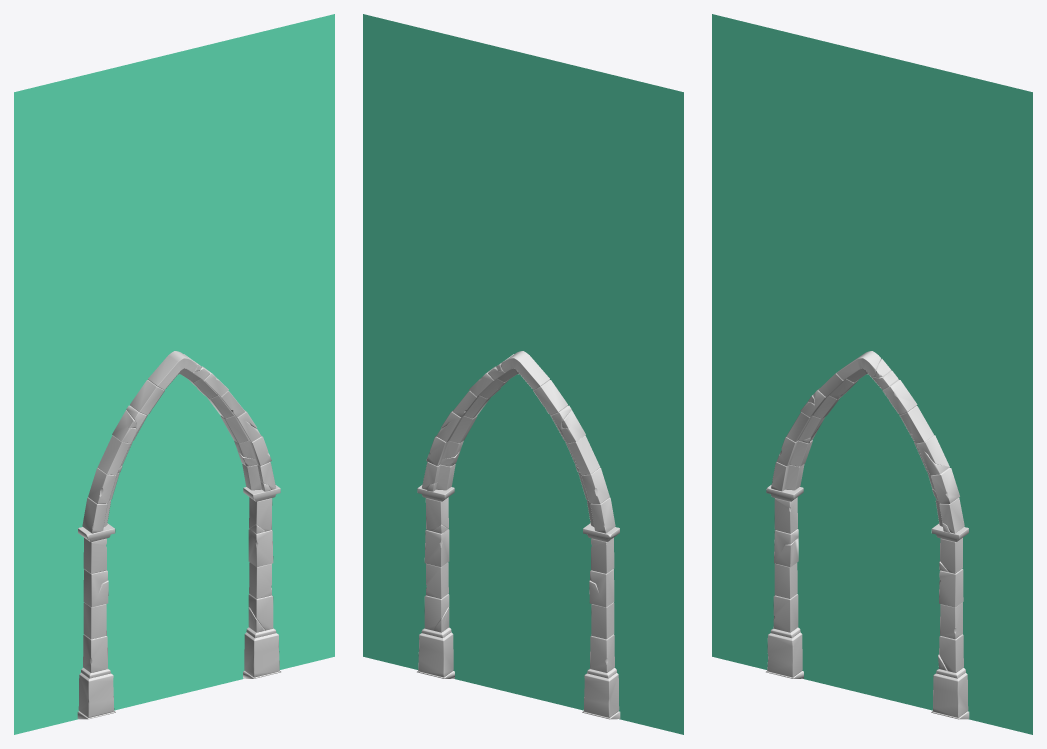
The picture shows the model from 3 angles, left to right: view 1: azimuth 30°, elevation 25°; view 2: azimuth 150°, elevation 25°; view 3: azimuth 330°, elevation 25°; orthographic projection.
Parts seen in each view (by area): view 1: SM_VFX_SpectralDoor_LOD0; view 2: SM_VFX_SpectralDoor_LOD0; view 3: SM_VFX_SpectralDoor_LOD0.
Part boxes in pixels (x1,y1,x2,y2): SM_VFX_SpectralDoor_LOD0: (14,14,334,734); SM_VFX_SpectralDoor_LOD0: (363,14,683,734); SM_VFX_SpectralDoor_LOD0: (712,14,1032,734).
Size of the model in its own units: 6.65 by 12.74 by 0.7464.
